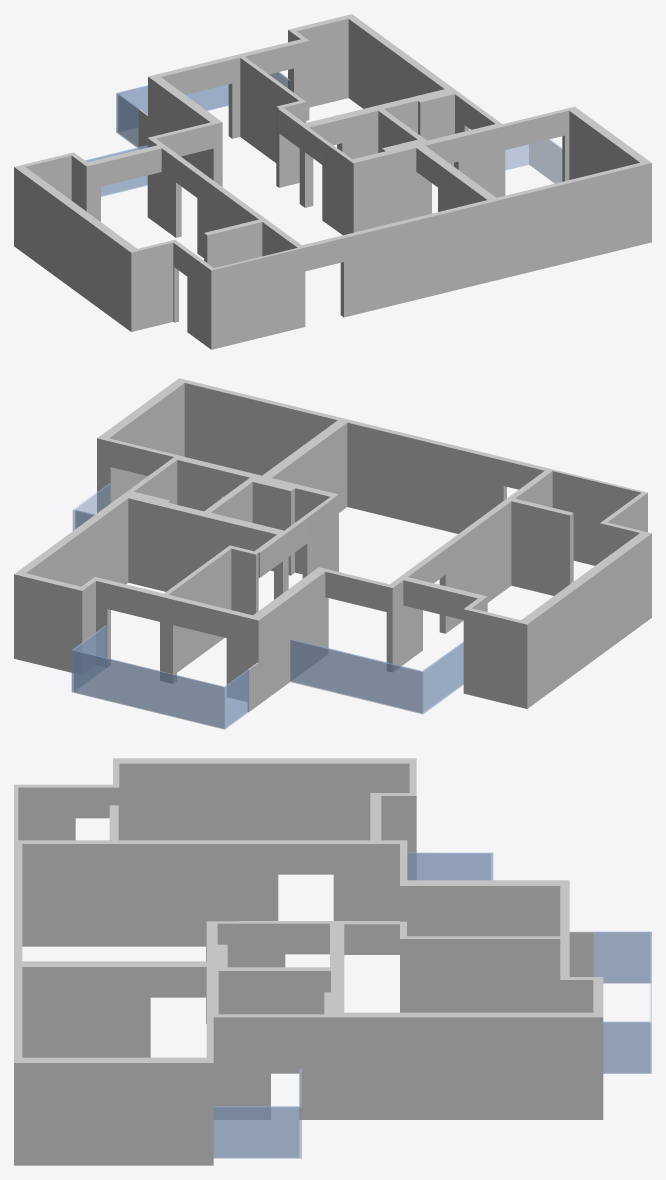
3 renders of one model, top to bottom at view 1: azimuth 30°, elevation 25°; view 2: azimuth 150°, elevation 25°; view 3: azimuth 270°, elevation 25°, orthographic. The views are drawn at different scales.
Visible parts, largest first — view 1: Material2 (×2); view 2: Material2 (×2); view 3: Material2 (×2).
Boxes of the visible parts, x1,y1,x2,y2 form: Material2 (×2): [14, 14, 651, 349]; Material2 (×2): [14, 378, 651, 729]; Material2 (×2): [14, 758, 651, 1165].
Bounding box in the file's own units: 501 × 78.74 × 443.
